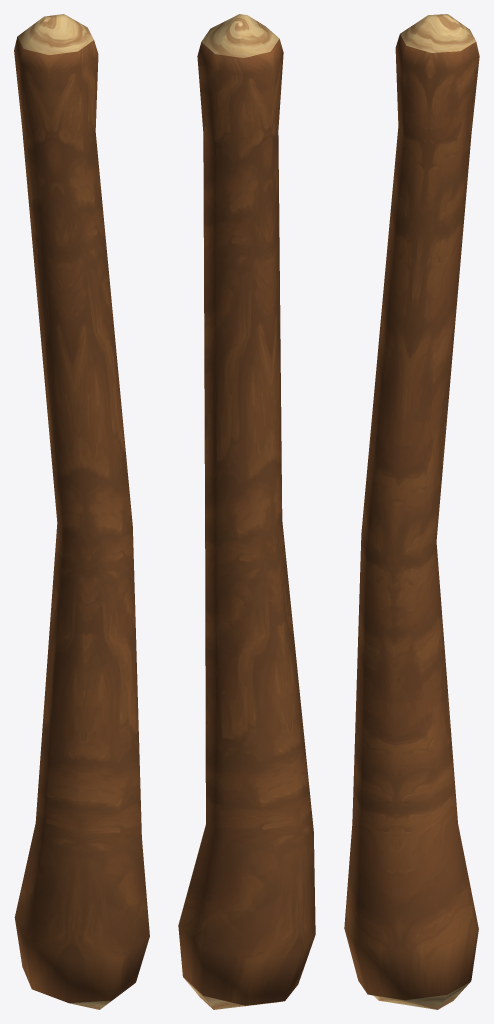
Rendered from Log.fbx.
3 renders of one model, left to right at view 1: azimuth 90°, elevation 25°; view 2: azimuth 150°, elevation 25°; view 3: azimuth 270°, elevation 25°, orthographic.
Parts seen in each view (by area): view 1: polySurface1256; view 2: polySurface1256; view 3: polySurface1256.
Boxes of the visible parts, box(x1,y1,x2,y2) form: polySurface1256: box(14, 14, 149, 1009); polySurface1256: box(178, 14, 315, 1009); polySurface1256: box(344, 14, 479, 1009).
Bounding box in the file's own units: 7.37 × 59.51 × 7.43.
